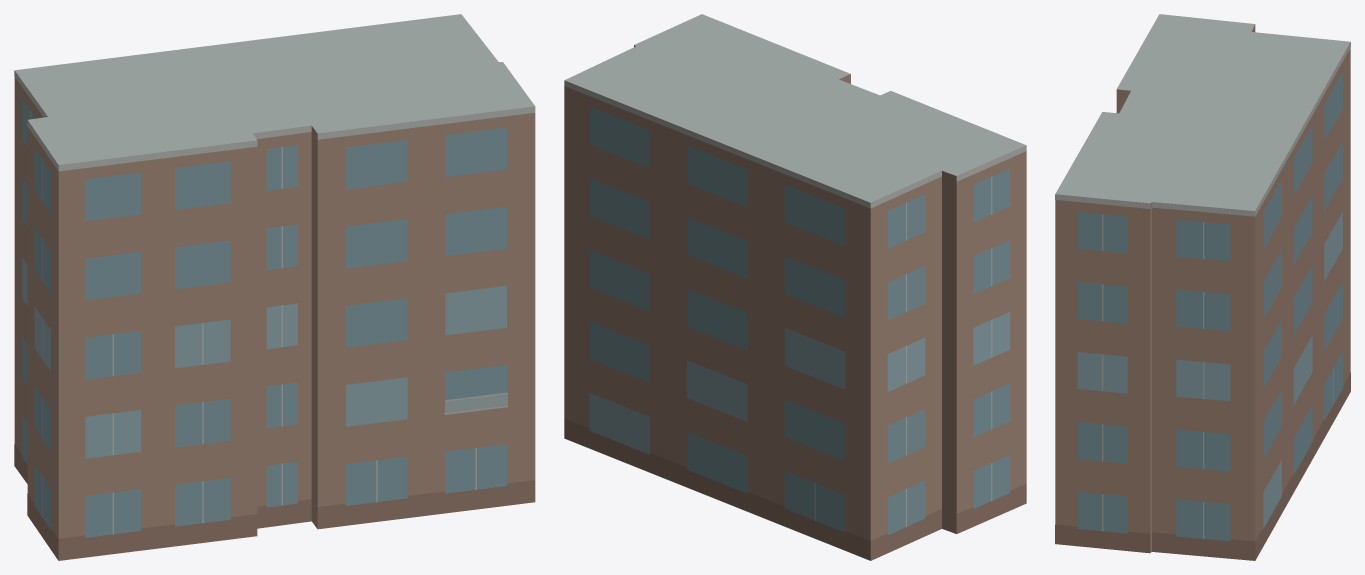
Rendered from survey-upis-32633505.glb.
3 renders of one model, left to right at view 1: azimuth 30°, elevation 25°; view 2: azimuth 150°, elevation 25°; view 3: azimuth 270°, elevation 25°, orthographic. The views are drawn at different scales.
Parts seen in each view (by area): view 1: survey-upis-32633505.tmp; view 2: survey-upis-32633505.tmp; view 3: survey-upis-32633505.tmp.
Part boxes in pixels (x1=…): survey-upis-32633505.tmp: x1=14, y1=14, x2=535, y2=560; survey-upis-32633505.tmp: x1=564, y1=14, x2=1026, y2=560; survey-upis-32633505.tmp: x1=1055, y1=14, x2=1350, y2=560.
Bounding box in the file's own units: 18.44 × 15.25 × 11.69.
